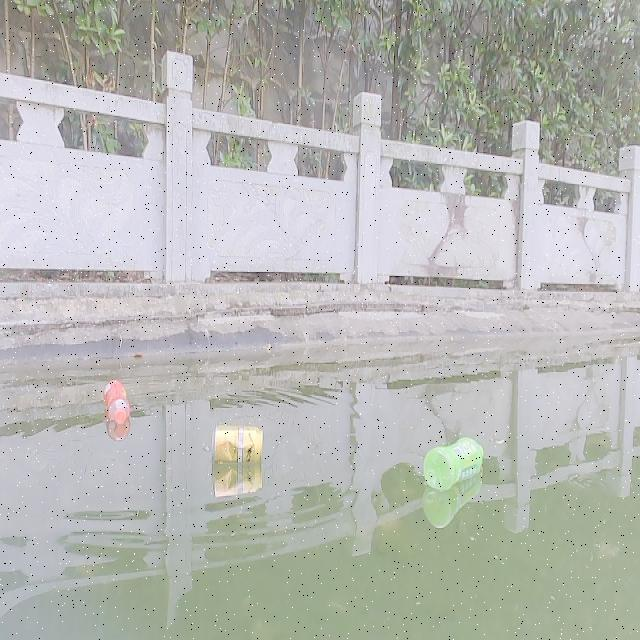bottle: (423, 436, 485, 492), (103, 377, 130, 424)
can: (209, 424, 268, 465)
